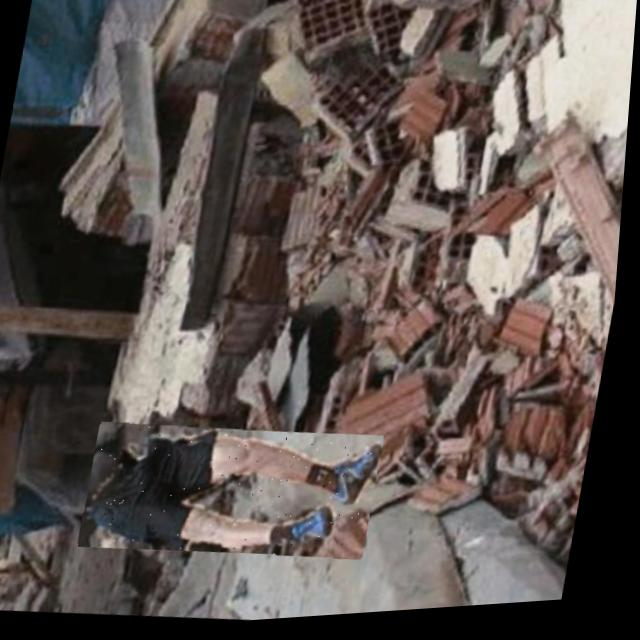Person in Rubble: (84, 409, 392, 578)
